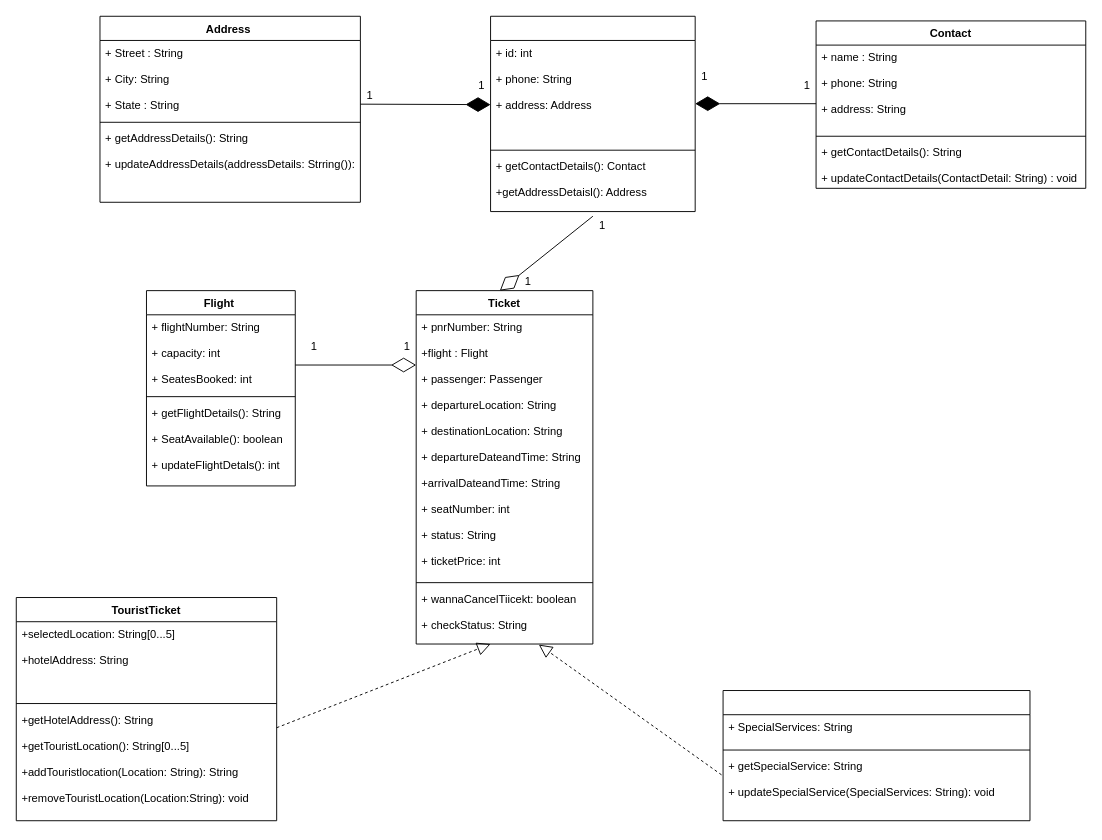
The diagram is 1102 pixels wide and 840 high, and some of its shapes have lost their labels. Each missing label, with the box of its shape:
Passenger: (490, 15, 695, 212)
RegularTicket: (722, 690, 1030, 821)
